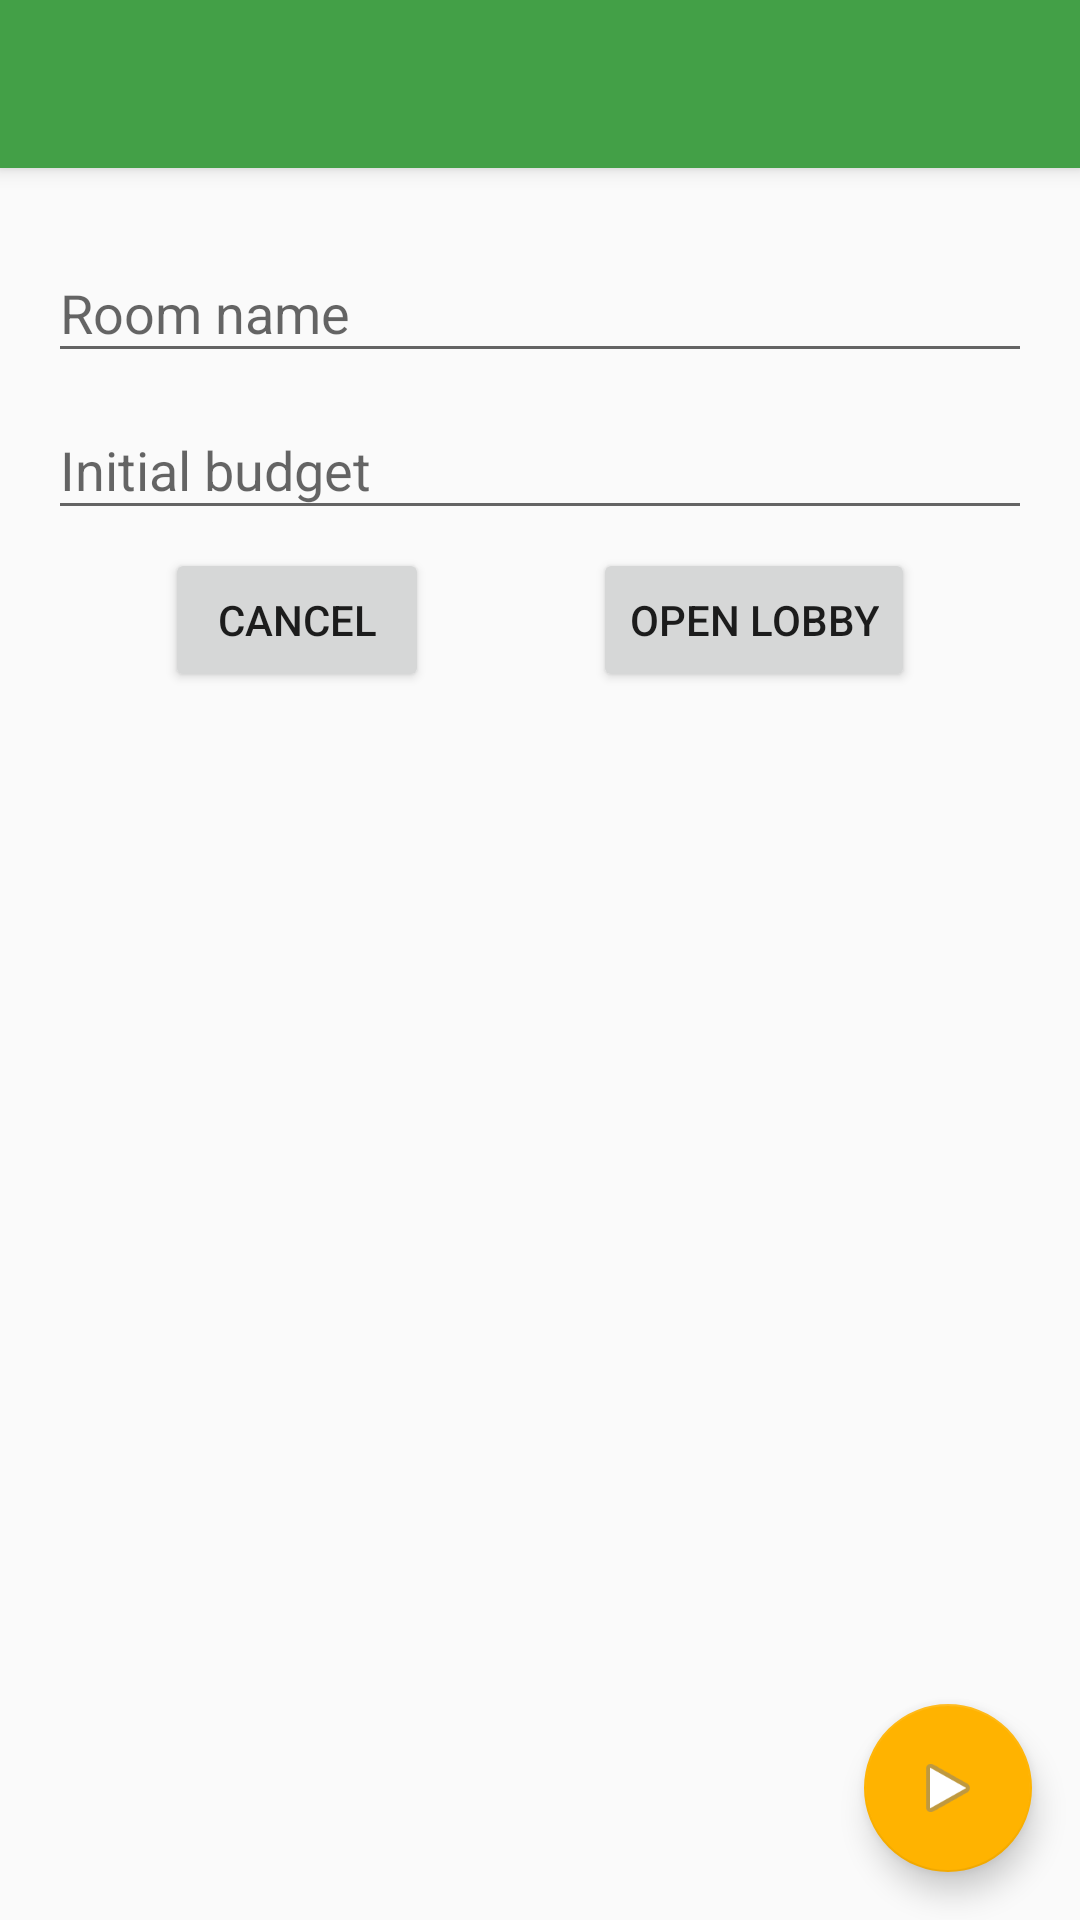

Where icons sit on this 1080px x 1920px app screen, as [left=x1, top=y1, right=x2, bottom=y2]:
play: [left=864, top=1704, right=1032, bottom=1872]
